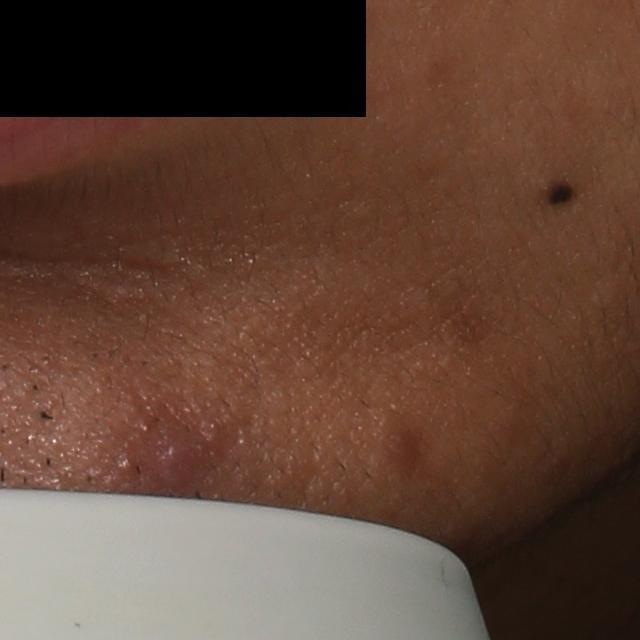nevus: (538, 171, 575, 211)
papule: (155, 443, 198, 484)
